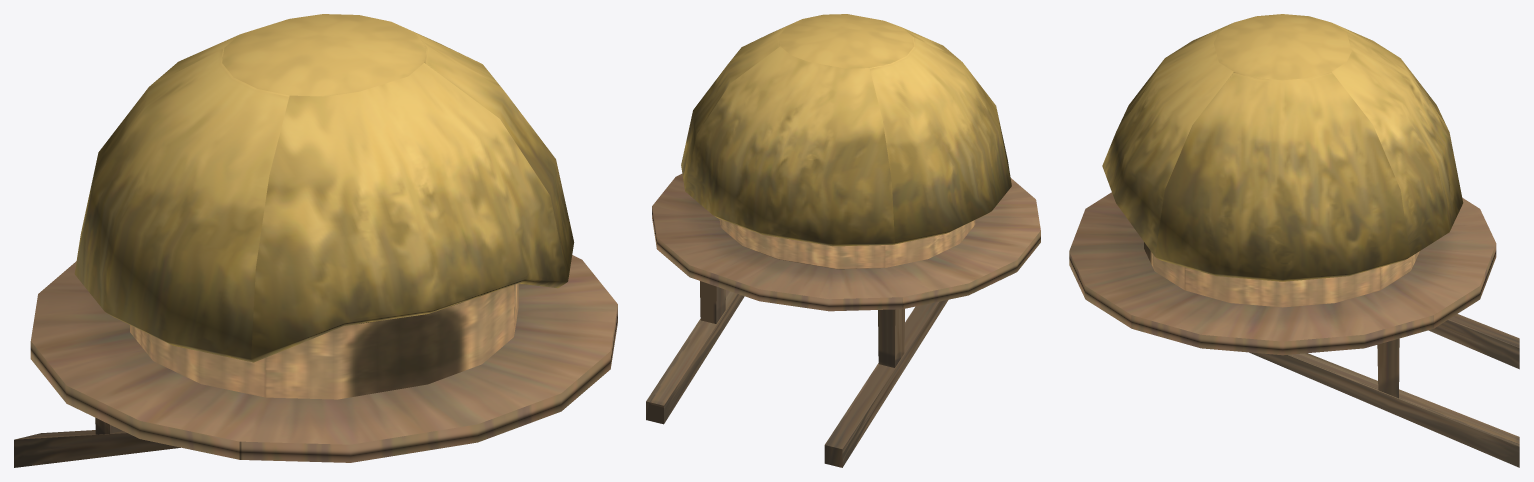
File: rumah honai.fbx
3 renders of one model, left to right at view 1: azimuth 30°, elevation 25°; view 2: azimuth 150°, elevation 25°; view 3: azimuth 270°, elevation 25°, orthographic. The views are drawn at different scales.
Parts seen in each view (by area): view 1: Cylinder; view 2: Cylinder; view 3: Cylinder.
Part boxes in pixels (x1,y1,x2,y2): Cylinder: (14, 14, 617, 467); Cylinder: (646, 14, 1040, 467); Cylinder: (1069, 14, 1519, 467).
Size of the model in its own units: 284 by 268 by 287.
